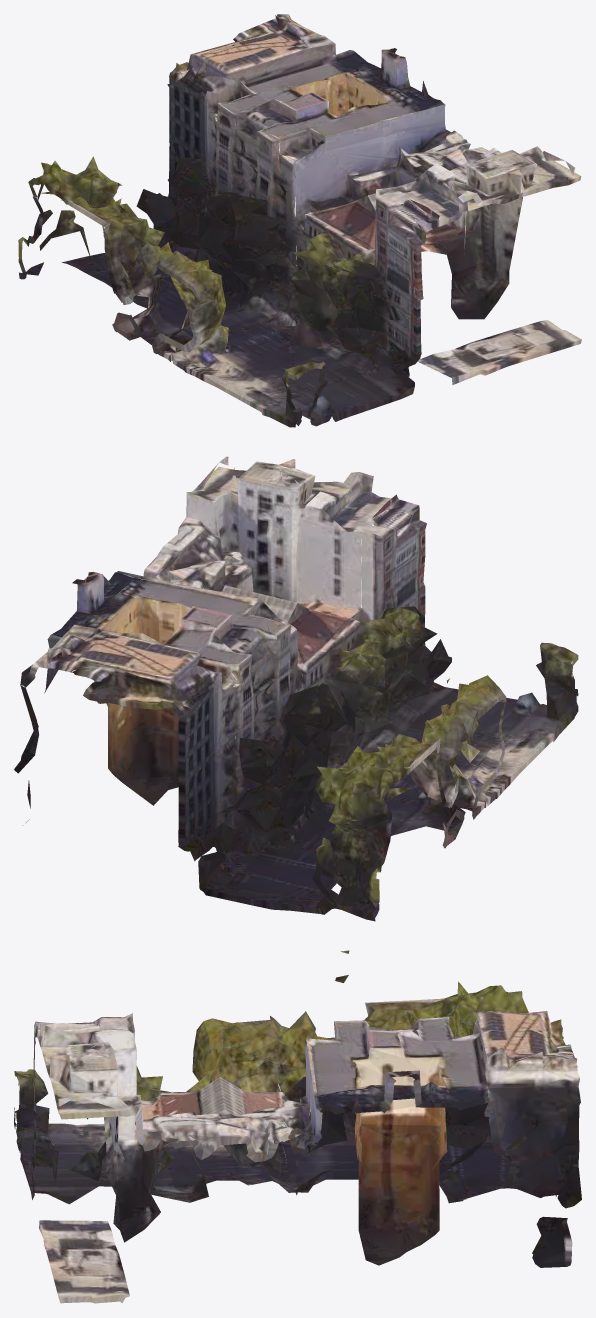
3 renders of one model, top to bottom at view 1: azimuth 30°, elevation 25°; view 2: azimuth 150°, elevation 25°; view 3: azimuth 270°, elevation 25°, orthographic. The views are drawn at different scales.
Visible parts, largest first — view 1: Mesh_0; view 2: Mesh_0; view 3: Mesh_0.
Part boxes in pixels (x1,y1,x2,y2): Mesh_0: (18, 14, 581, 427); Mesh_0: (14, 456, 578, 921); Mesh_0: (14, 950, 581, 1303).
Size of the model in its own units: 67.53 by 35.91 by 82.62.
Materials: 1 (1 with a texture image).
